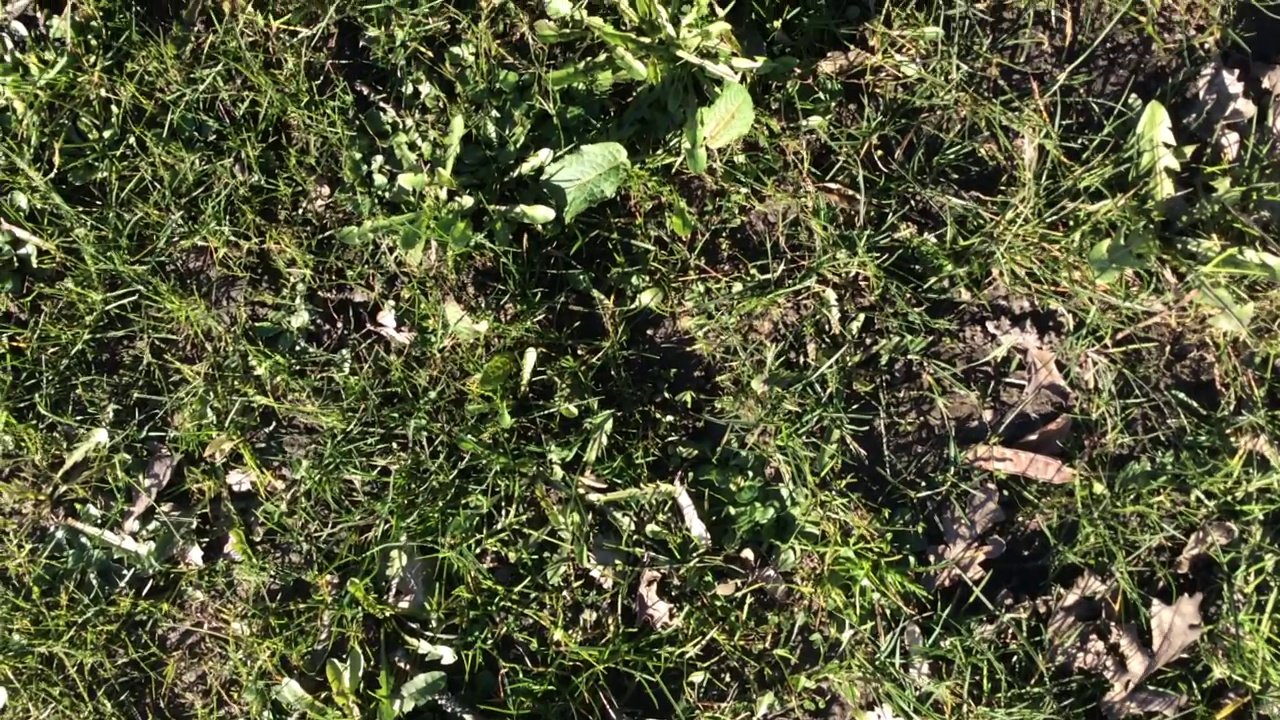rumex: (516, 142, 631, 226), (680, 84, 754, 148)
